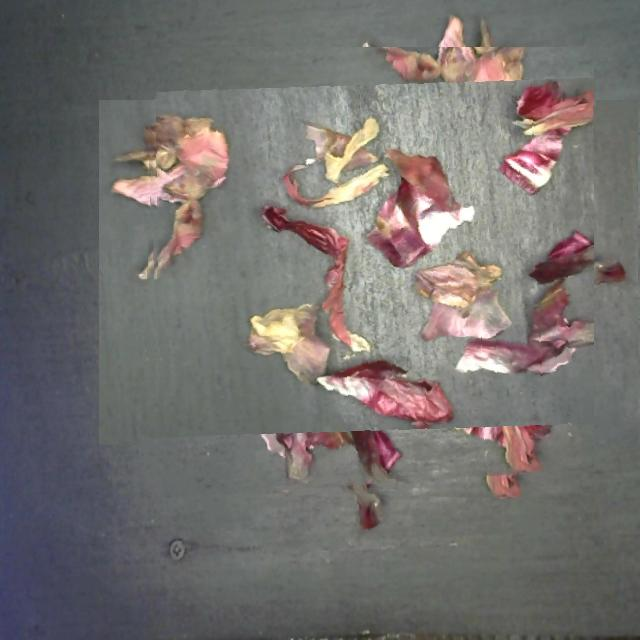biodegradable: (144, 47, 594, 498)
